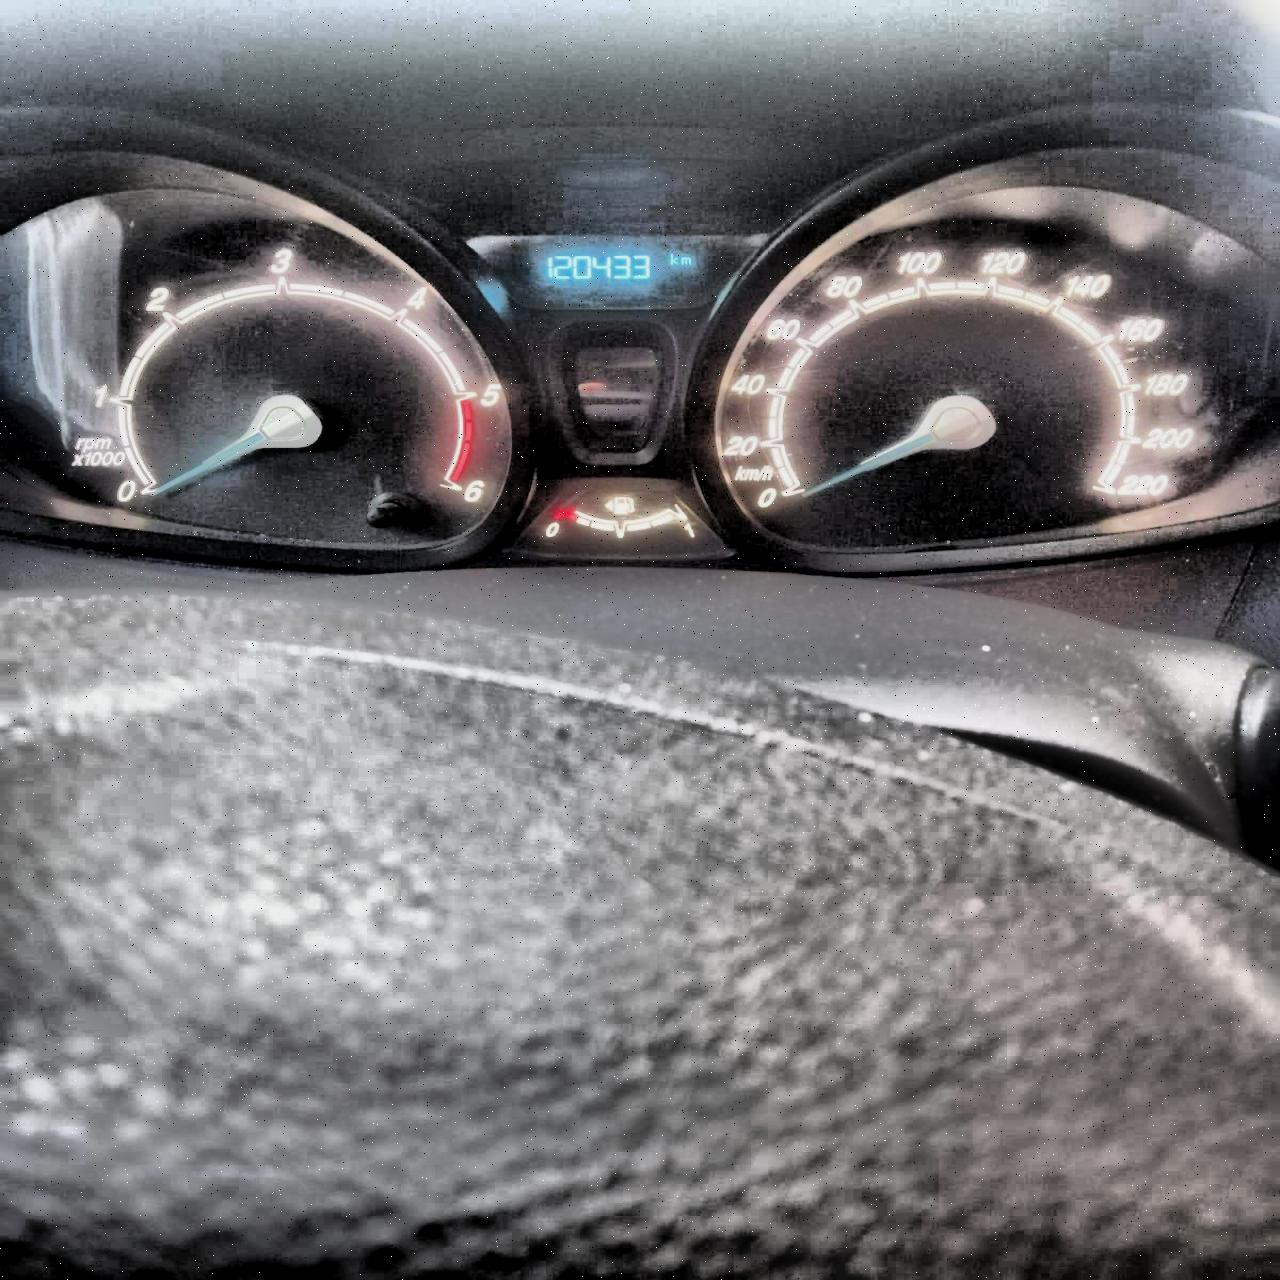0: (573, 253, 591, 279)
1: (546, 254, 553, 280)
2: (552, 253, 571, 279)
3: (632, 253, 652, 280), (613, 254, 631, 279)
4: (591, 254, 611, 279)
X: (679, 256, 692, 266), (668, 252, 678, 266)
odometer: (530, 240, 704, 299)
